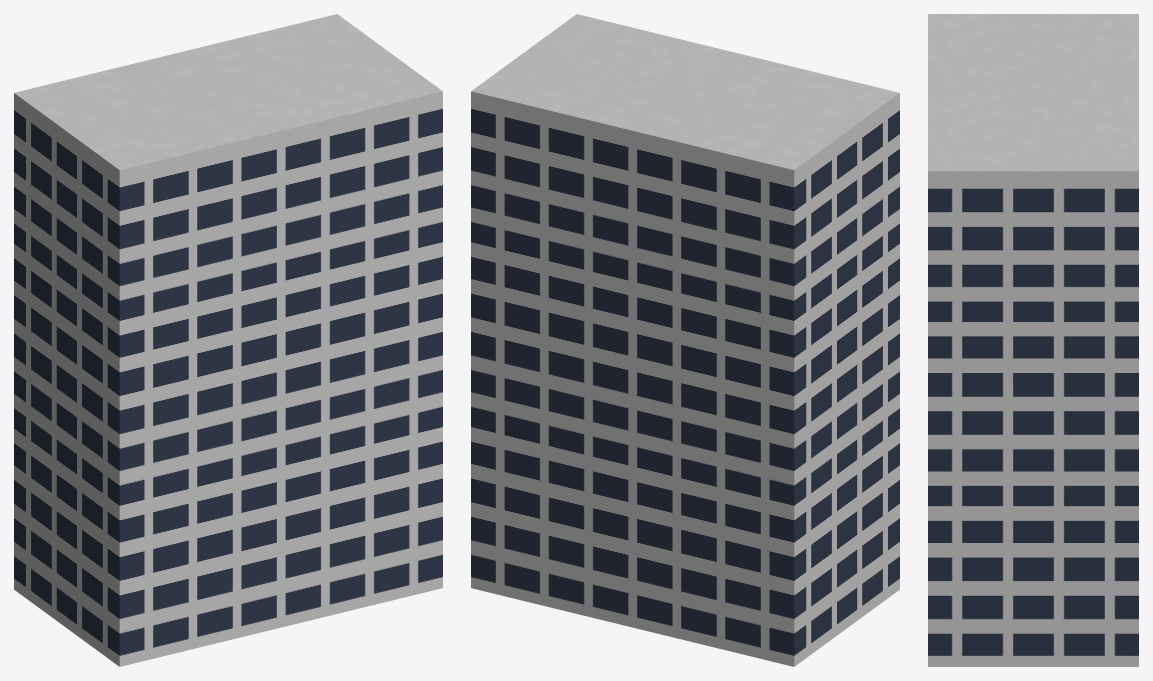
The model's file is Building_S_W4_b_001.fbx.
3 renders of one model, left to right at view 1: azimuth 30°, elevation 25°; view 2: azimuth 150°, elevation 25°; view 3: azimuth 270°, elevation 25°, orthographic.
Parts seen in each view (by area): view 1: Building_S_W4_002; view 2: Building_S_W4_002; view 3: Building_S_W4_002.
Boxes of the visible parts, <box> form: Building_S_W4_002: <box>14,14,442,666</box>; Building_S_W4_002: <box>471,14,899,666</box>; Building_S_W4_002: <box>928,14,1138,666</box>.
Bounding box in the file's own units: 40.32 × 59.22 × 22.85.
